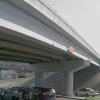Bridge: (7, 0, 95, 84)
